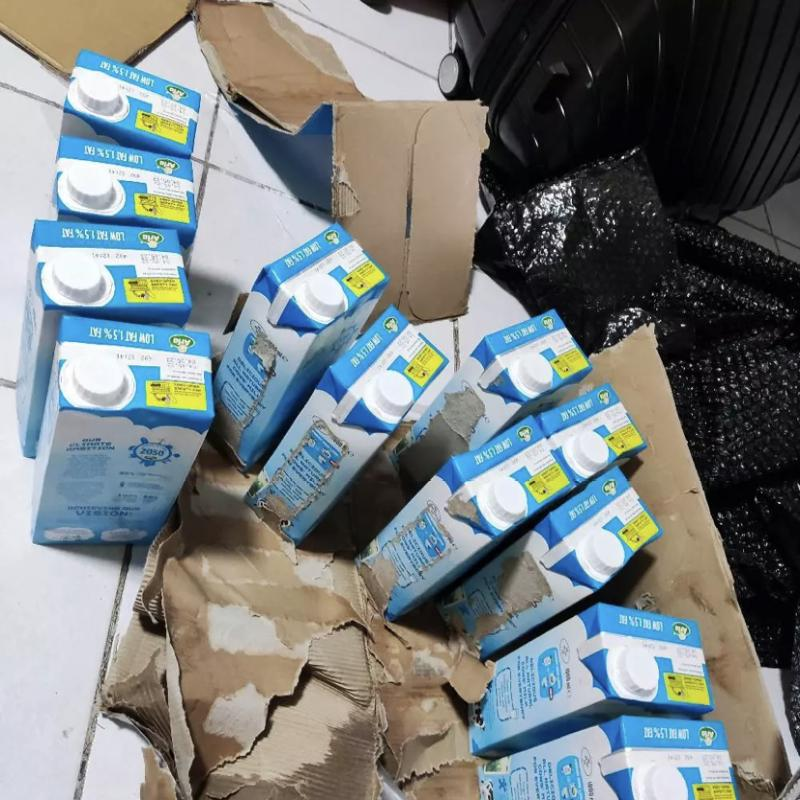cardboard: (104, 444, 495, 800), (193, 0, 490, 325)
uht carton: (244, 307, 449, 545), (356, 415, 573, 621), (437, 465, 664, 661), (213, 224, 389, 470), (31, 315, 214, 547), (15, 221, 192, 457), (469, 602, 715, 760), (390, 310, 593, 483), (477, 715, 740, 800), (55, 136, 197, 250), (62, 49, 200, 158), (537, 384, 647, 485)
